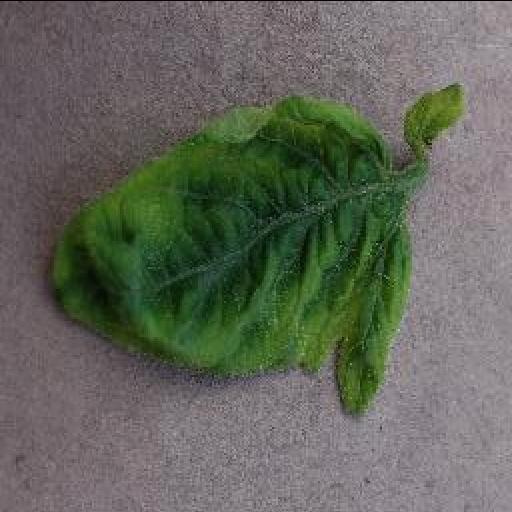disease_tomato: (44, 94, 416, 416)
